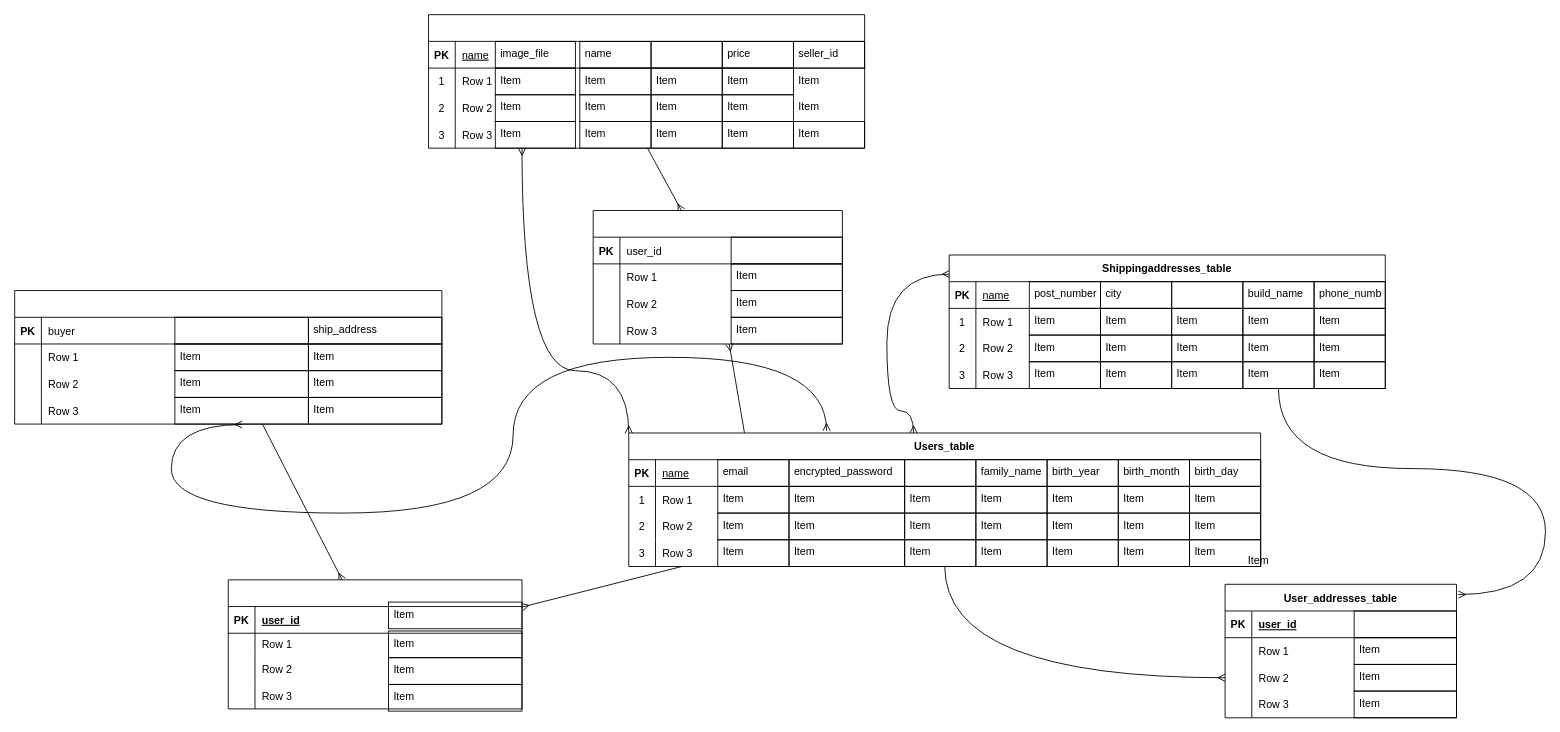
Image size: 1560x732. Some labels were removed from this diagram. The shapes that lost their labels are listed below. From the top down, each one's box as (x1, y1, x2, y2) in pixels, then its label:
(650, 40, 722, 68): profile
(428, 14, 865, 148): Products_table
(730, 236, 842, 264): product_id
(592, 210, 842, 344): Markets_table
(1171, 281, 1243, 308): st_address
(174, 316, 308, 344): sold_product
(14, 290, 442, 424): Purchase_records_table
(904, 459, 976, 486): first_name
(227, 579, 522, 709): User_purchases_table
(1353, 610, 1456, 638): adderesses
